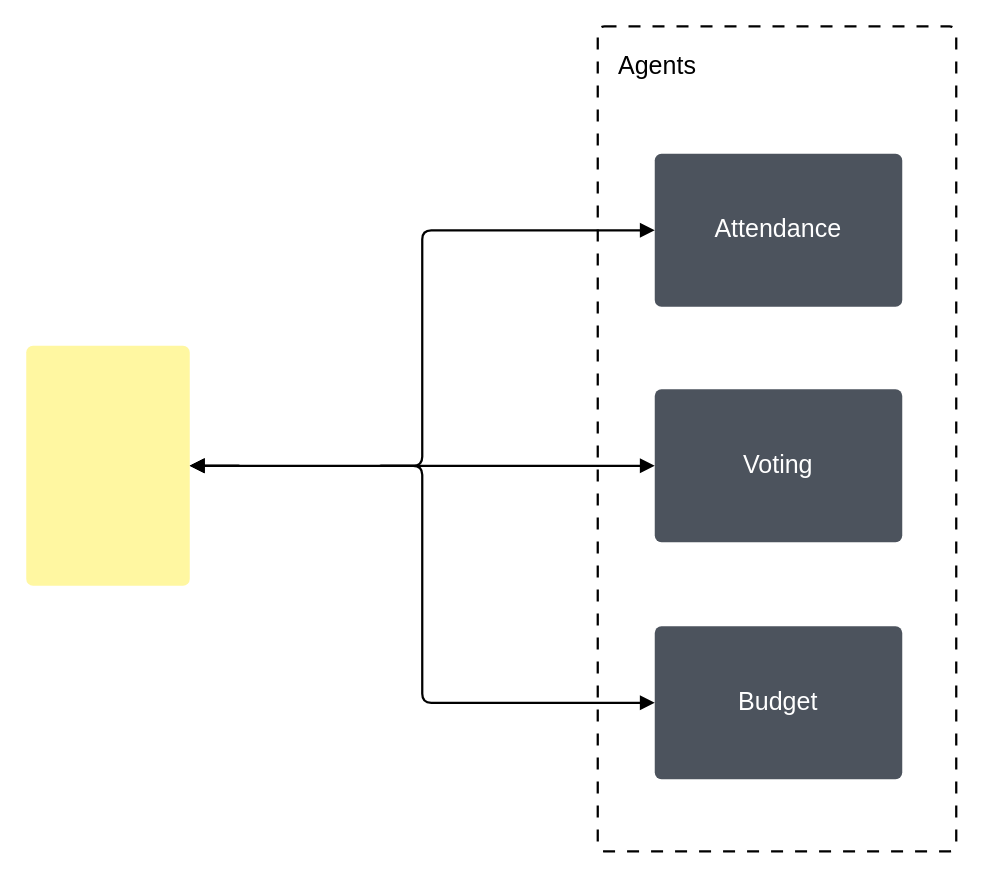
The diagram is 984 pixels wide and 879 high, and some of its shapes have lost their labels. Each missing label, with the centre of its shape:
Langraph: (107,465)
mcp: (309,447)
